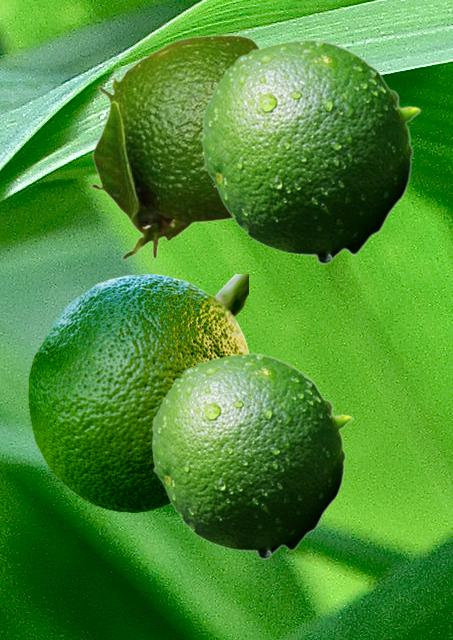dalandan: (28, 274, 247, 511), (201, 38, 420, 264), (151, 352, 352, 559), (89, 34, 259, 260)
